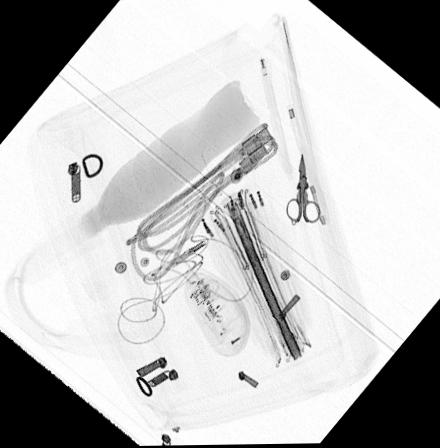Scissors: (285, 152, 321, 229)
